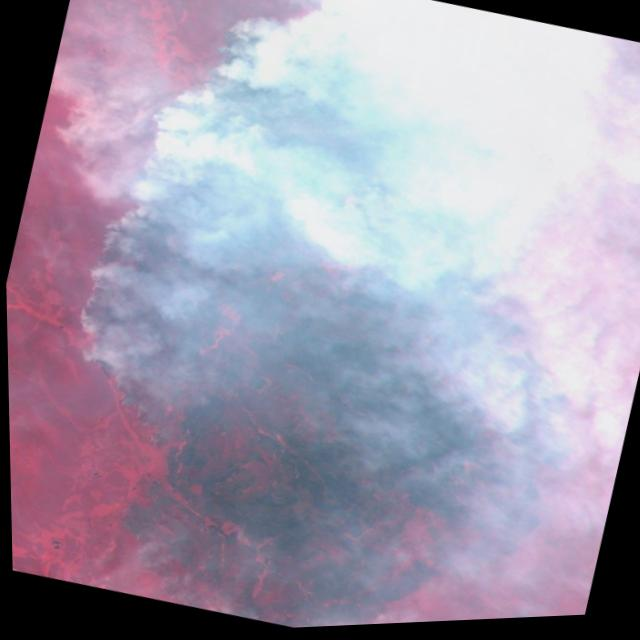fire: (4, 0, 573, 640)
